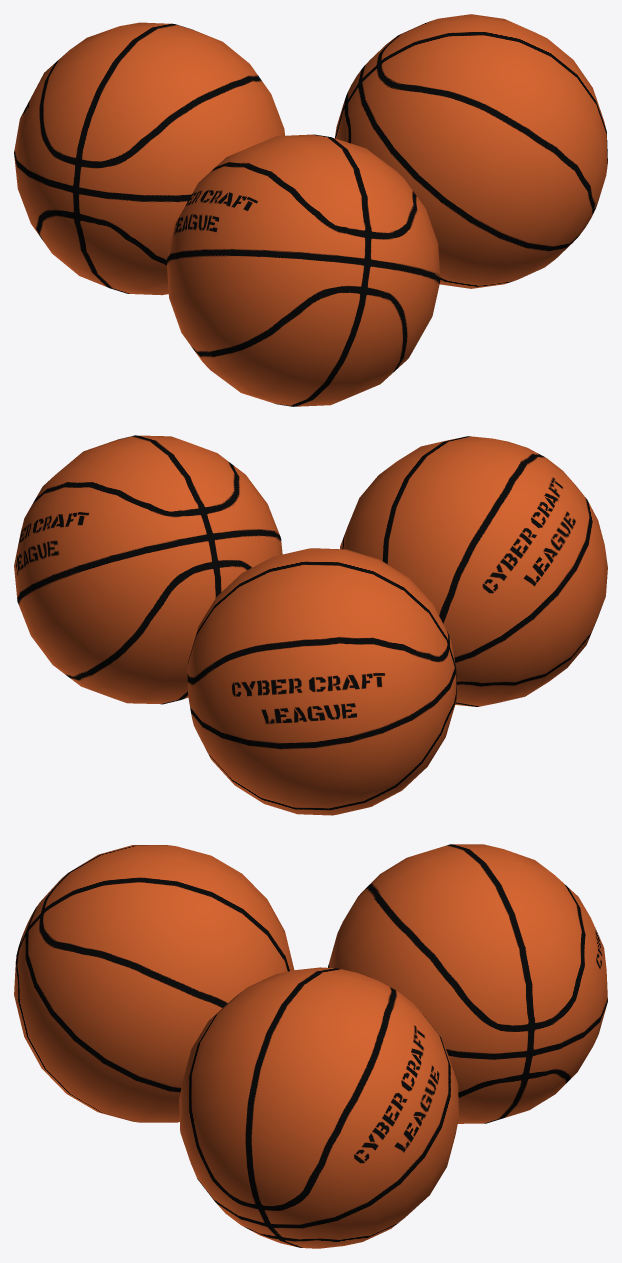
3 views of the same model, one above another, from view 1: azimuth 30°, elevation 25°; view 2: azimuth 150°, elevation 25°; view 3: azimuth 270°, elevation 25° (orthographic). The views are drawn at different scales.
Visible parts, largest first — view 1: ball_s.001, ball_s.003, ball_s.002; view 2: ball_s.002, ball_s.003, ball_s.001; view 3: ball_s.003, ball_s.001, ball_s.002.
Boxes of the visible parts, left/top/right/bottom form: ball_s.001: left=166, top=134, right=440, bottom=406; ball_s.003: left=335, top=14, right=607, bottom=288; ball_s.002: left=14, top=22, right=284, bottom=295; ball_s.002: left=187, top=548, right=456, bottom=815; ball_s.003: left=14, top=435, right=282, bottom=704; ball_s.001: left=340, top=436, right=607, bottom=706; ball_s.003: left=179, top=967, right=458, bottom=1248; ball_s.001: left=14, top=845, right=294, bottom=1122; ball_s.002: left=328, top=844, right=607, bottom=1123.
Bounding box in the file's own units: 4.1 × 2 × 4.23.
1 material, 1 textured.
